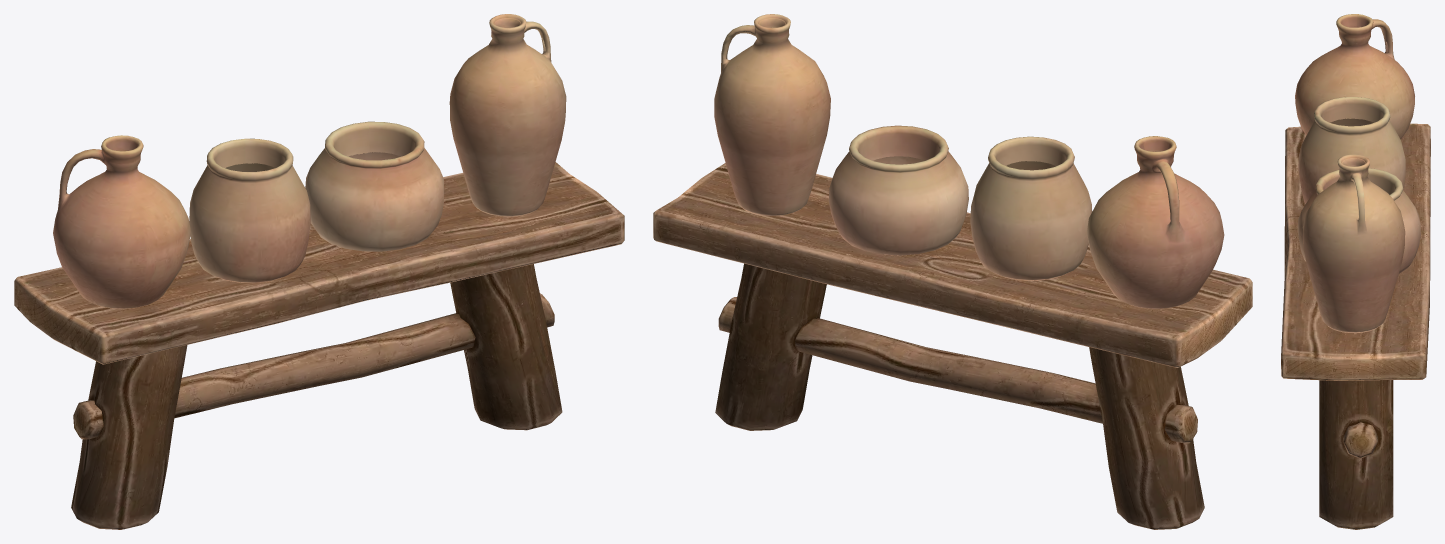
3 renders of one model, left to right at view 1: azimuth 30°, elevation 25°; view 2: azimuth 150°, elevation 25°; view 3: azimuth 270°, elevation 25°, orthographic. The views are drawn at different scales.
Visible parts, largest first — view 1: SM_Dec_Workshop_Pot_Bench_LOD0; view 2: SM_Dec_Workshop_Pot_Bench_LOD0; view 3: SM_Dec_Workshop_Pot_Bench_LOD0.
Boxes of the visible parts, x1,y1,x2,y2 form: SM_Dec_Workshop_Pot_Bench_LOD0: (14,14,624,529); SM_Dec_Workshop_Pot_Bench_LOD0: (653,14,1252,529); SM_Dec_Workshop_Pot_Bench_LOD0: (1281,14,1430,529).
Size of the model in its own units: 1.2 by 0.8499 by 0.3286.
Materials: 1 (1 with a texture image).
